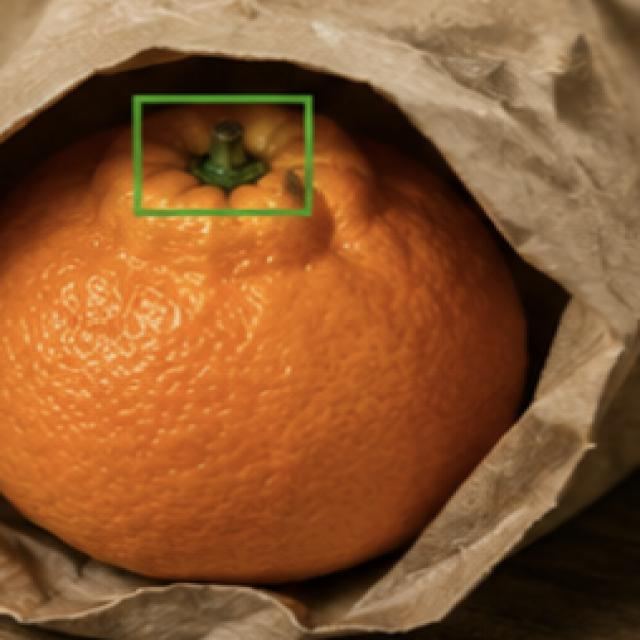Fruit-Stem-Detection: (162, 114, 284, 204)
